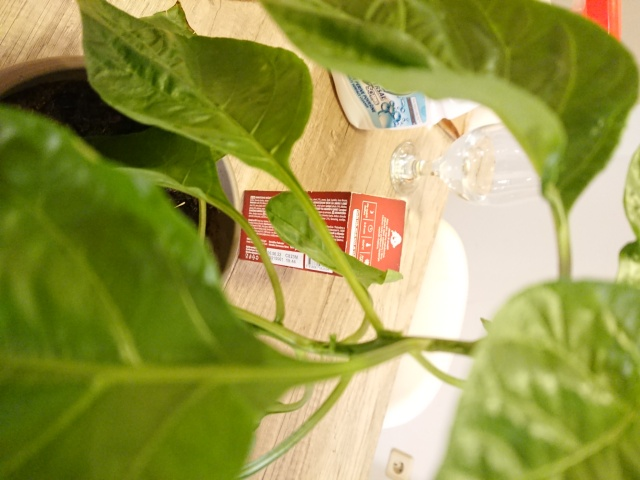Franck Apple Cinnamon Tea 60g: (235, 187, 410, 282)
